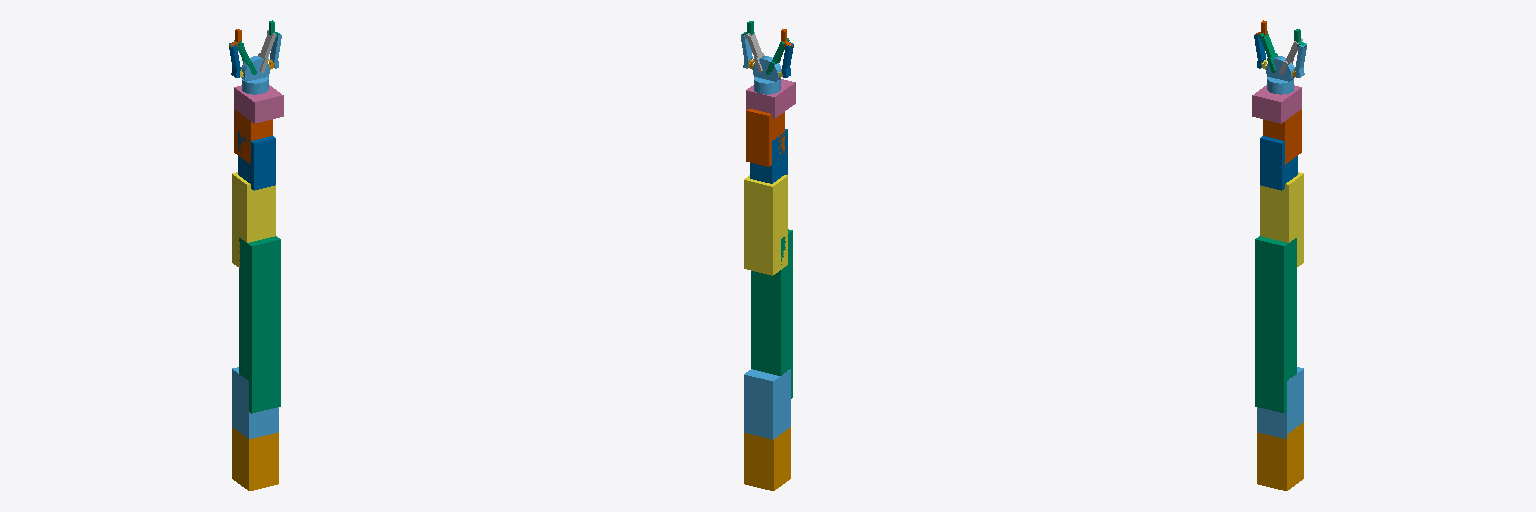
robot.urdf — [local-path]/webots_ws/src/webots_ros2_spot/protos/6dof/urdf/GEN:
<?xml version="1.0"?>
<robot name="[local-path]/webots_ws/src/webots_ros2_spot/protos/6dof/urdf/GEN3-6DOF_VISION.urdf" xmlns:xacro="http://ros.org/wiki/xacro">
  <link name="base_link">
    <visual>
      <origin xyz="0.000194 0.000078 0.085425" rpy="0 0 0"/>
      <geometry>
        <box size="0.092492 0.092157 0.17085"/>
      </geometry>
    </visual>
    <collision>
      <origin xyz="0.000194 0.000078 0.085425" rpy="0 0 0"/>
      <geometry>
        <box size="0.092492 0.092157 0.17085"/>
      </geometry>
    </collision>
  </link>
  <joint name="joint_1" type="continuous">
    <parent link="base_link"/>
    <child link="Shoulder_Link"/>
    <axis xyz="0 -0.000014 1"/>
    <limit effort="39" velocity="0.8727"/>
    <origin xyz="0 0 0.15643" rpy="3.141585 0 0"/>
  </joint>
  <link name="Shoulder_Link">
    <visual>
      <origin xyz="0 -0.001297 -0.087188" rpy="0 0 0"/>
      <geometry>
        <box size="0.092717 0.094708 0.174375"/>
      </geometry>
    </visual>
    <collision>
      <origin xyz="0 -0.001297 -0.087188" rpy="0 0 0"/>
      <geometry>
        <box size="0.092717 0.094708 0.174375"/>
      </geometry>
    </collision>
  </link>
  <joint name="joint_2" type="revolute">
    <parent link="Shoulder_Link"/>
    <child link="Bicep_Link"/>
    <axis xyz="0 0 1"/>
    <limit effort="39" lower="-2.41" upper="2.41" velocity="0.8727"/>
    <origin xyz="0 0.005375 -0.12838" rpy="1.5708 0 0"/>
  </joint>
  <link name="Bicep_Link">
    <visual>
      <origin xyz="0 -0.20501 -0.019205" rpy="0 0 0"/>
      <geometry>
        <box size="0.092 0.50202 0.06726"/>
      </geometry>
    </visual>
    <collision>
      <origin xyz="0 -0.20501 -0.019205" rpy="0 0 0"/>
      <geometry>
        <box size="0.092 0.50202 0.06726"/>
      </geometry>
    </collision>
  </link>
  <joint name="joint_3" type="revolute">
    <parent link="Bicep_Link"/>
    <child link="ForeArm_Link"/>
    <axis xyz="0 0.000014 1"/>
    <limit effort="39" lower="-2.66" upper="2.66" velocity="0.8727"/>
    <origin xyz="0 -0.41 0" rpy="-3.141585 0 0"/>
  </joint>
  <link name="ForeArm_Link">
    <visual>
      <origin xyz="0 0.08745 -0.013648" rpy="0 0 0"/>
      <geometry>
        <box size="0.092 0.2669 0.084586"/>
      </geometry>
    </visual>
    <collision>
      <origin xyz="0 0.08745 -0.013648" rpy="0 0 0"/>
      <geometry>
        <box size="0.092 0.2669 0.084586"/>
      </geometry>
    </collision>
  </link>
  <joint name="joint_4" type="continuous">
    <parent link="ForeArm_Link"/>
    <child link="SphericalWrist1_Link"/>
    <axis xyz="0 0 1"/>
    <limit effort="9" velocity="0.8727"/>
    <origin xyz="0 0.20843 -0.006375" rpy="1.5708 0 0"/>
  </joint>
  <link name="SphericalWrist1_Link">
    <visual>
      <origin xyz="-0.000001 0.009023 -0.070502" rpy="0 0 0"/>
      <geometry>
        <box size="0.069998 0.088046 0.141004"/>
      </geometry>
    </visual>
    <collision>
      <origin xyz="-0.000001 0.009023 -0.070502" rpy="0 0 0"/>
      <geometry>
        <box size="0.069998 0.088046 0.141004"/>
      </geometry>
    </collision>
  </link>
  <joint name="joint_5" type="revolute">
    <parent link="SphericalWrist1_Link"/>
    <child link="SphericalWrist2_Link"/>
    <axis xyz="0 0 1"/>
    <limit effort="9" lower="-2.23" upper="2.23" velocity="0.8727"/>
    <origin xyz="0 -0.000175 -0.10593" rpy="-1.5708 0 0"/>
  </joint>
  <link name="SphericalWrist2_Link">
    <visual>
      <origin xyz="0 0.041661 -0.009251" rpy="0 0 0"/>
      <geometry>
        <box size="0.07 0.153478 0.088152"/>
      </geometry>
    </visual>
    <collision>
      <origin xyz="0 0.041661 -0.009251" rpy="0 0 0"/>
      <geometry>
        <box size="0.07 0.153478 0.088152"/>
      </geometry>
    </collision>
  </link>
  <joint name="joint_6" type="continuous">
    <parent link="SphericalWrist2_Link"/>
    <child link="Bracelet_Link"/>
    <axis xyz="0 0 1"/>
    <limit effort="9" velocity="0.8727"/>
    <origin xyz="0 0.10593 -0.000175" rpy="1.5708 0 0"/>
  </joint>
  <link name="Bracelet_Link">
    <visual>
      <origin xyz="0 0.018585 -0.032212" rpy="0 0 0"/>
      <geometry>
        <box size="0.091 0.11217 0.064425"/>
      </geometry>
    </visual>
    <collision>
      <origin xyz="0 0.018585 -0.032212" rpy="0 0 0"/>
      <geometry>
        <box size="0.091 0.11217 0.064425"/>
      </geometry>
    </collision>
  </link>
  <link name="kinova_depth">
  </link>
  <joint name="Bracelet_Link_kinova_depth_joint" type="fixed">
    <parent link="Bracelet_Link"/>
    <child link="kinova_depth"/>
    <origin xyz="0 0.06 -0.06" rpy="2.356193 1.570792 -2.356193"/>
  </joint>
  <link name="kinova_color">
  </link>
  <joint name="Bracelet_Link_kinova_color_joint" type="fixed">
    <parent link="Bracelet_Link"/>
    <child link="kinova_color"/>
    <origin xyz="0 0.06 -0.06" rpy="0.785397 1.570792 -3.926989"/>
  </joint>
  <link name="ROBOTIQ 2F-140 Gripper">
    <visual>
      <origin xyz="0 0 0.018" rpy="0 0 0"/>
      <geometry>
        <cylinder radius="0.0375" length="0.036"/>
      </geometry>
    </visual>
    <collision>
      <origin xyz="0 0 0.018" rpy="0 0 0"/>
      <geometry>
        <cylinder radius="0.0375" length="0.036"/>
      </geometry>
    </collision>
    <visual>
      <origin xyz="0 0 0.055" rpy="3.141593 1.570793 3.141593"/>
      <geometry>
        <cylinder radius="0.04" length="0.023"/>
      </geometry>
    </visual>
    <collision>
      <origin xyz="0 0 0.055" rpy="3.141593 1.570793 3.141593"/>
      <geometry>
        <cylinder radius="0.04" length="0.023"/>
      </geometry>
    </collision>
  </link>
  <joint name="Bracelet_Link_ROBOTIQ 2F-140 Gripper_joint" type="fixed">
    <parent link="Bracelet_Link"/>
    <child link="ROBOTIQ 2F-140 Gripper"/>
    <origin xyz="0 0 -0.061525" rpy="-3.14159 0 -1.570794"/>
  </joint>
  <joint name="hingejoint" type="continuous">
    <parent link="ROBOTIQ 2F-140 Gripper"/>
    <child link="right inner knuckle"/>
    <axis xyz="1 0 0"/>
    <origin xyz="0 0.0127 0.06142" rpy="2.000653 0 3.141592"/>
  </joint>
  <link name="right inner knuckle">
    <visual>
      <origin xyz="0 0 0" rpy="3.141593 1.570793 3.141593"/>
      <geometry>
        <cylinder radius="0.0059" length="0.0394"/>
      </geometry>
    </visual>
    <collision>
      <origin xyz="0 0 0" rpy="3.141593 1.570793 3.141593"/>
      <geometry>
        <cylinder radius="0.0059" length="0.0394"/>
      </geometry>
    </collision>
    <visual>
      <origin xyz="-0.0158 0.018 -0.0003" rpy="-0.02 0 0"/>
      <geometry>
        <box size="0.007 0.038 0.0121"/>
      </geometry>
    </visual>
    <collision>
      <origin xyz="-0.0158 0.018 -0.0003" rpy="-0.02 0 0"/>
      <geometry>
        <box size="0.007 0.038 0.0121"/>
      </geometry>
    </collision>
    <visual>
      <origin xyz="0.0158 0.018 -0.0003" rpy="-0.02 0 0"/>
      <geometry>
        <box size="0.007 0.038 0.0121"/>
      </geometry>
    </visual>
    <collision>
      <origin xyz="0.0158 0.018 -0.0003" rpy="-0.02 0 0"/>
      <geometry>
        <box size="0.007 0.038 0.0121"/>
      </geometry>
    </collision>
    <visual>
      <origin xyz="0 0.0677 -0.0013" rpy="-0.02 0 0"/>
      <geometry>
        <box size="0.0246 0.076 0.0121"/>
      </geometry>
    </visual>
    <collision>
      <origin xyz="0 0.0677 -0.0013" rpy="-0.02 0 0"/>
      <geometry>
        <box size="0.0246 0.076 0.0121"/>
      </geometry>
    </collision>
    <visual>
      <origin xyz="0.0035 0.101 -0.0023" rpy="3.141593 1.570793 3.141593"/>
      <geometry>
        <cylinder radius="0.0058" length="0.032"/>
      </geometry>
    </visual>
    <collision>
      <origin xyz="0.0035 0.101 -0.0023" rpy="3.141593 1.570793 3.141593"/>
      <geometry>
        <cylinder radius="0.0058" length="0.032"/>
      </geometry>
    </collision>
  </link>
  <joint name="right_finger_joint" type="revolute">
    <parent link="ROBOTIQ 2F-140 Gripper"/>
    <child link="right outer knuckle"/>
    <axis xyz="-1 0 0"/>
    <limit effort="0.12" lower="0" upper="0.7" velocity="2"/>
    <origin xyz="0 0.030601 0.054905" rpy="2.000628 0 -3.141592"/>
  </joint>
  <link name="right outer knuckle">
    <visual>
      <origin xyz="0 0.002 0.004" rpy="0.9 0 0"/>
      <geometry>
        <box size="0.009 0.063 0.012"/>
      </geometry>
    </visual>
    <collision>
      <origin xyz="0 0.002 0.004" rpy="0.9 0 0"/>
      <geometry>
        <box size="0.009 0.063 0.012"/>
      </geometry>
    </collision>
    <visual>
      <origin xyz="0 0.0209 0.019" rpy="0.95 0 0"/>
      <geometry>
        <box size="0.009 0.02 0.02"/>
      </geometry>
    </visual>
    <collision>
      <origin xyz="0 0.0209 0.019" rpy="0.95 0 0"/>
      <geometry>
        <box size="0.009 0.02 0.02"/>
      </geometry>
    </collision>
    <visual>
      <origin xyz="0 0 0" rpy="3.141593 1.570793 3.141593"/>
      <geometry>
        <cylinder radius="0.004" length="0.017"/>
      </geometry>
    </visual>
    <collision>
      <origin xyz="0 0 0" rpy="3.141593 1.570793 3.141593"/>
      <geometry>
        <cylinder radius="0.004" length="0.017"/>
      </geometry>
    </collision>
    <visual>
      <origin xyz="0 0.0218 0.0136" rpy="3.141593 1.570793 3.141593"/>
      <geometry>
        <cylinder radius="0.003" length="0.024"/>
      </geometry>
    </visual>
    <collision>
      <origin xyz="0 0.0218 0.0136" rpy="3.141593 1.570793 3.141593"/>
      <geometry>
        <cylinder radius="0.003" length="0.024"/>
      </geometry>
    </collision>
  </link>
  <link name="right outer finger">
    <visual>
      <origin xyz="0 0.0511 -0.02" rpy="-0.2618 0 0"/>
      <geometry>
        <box size="0.025 0.074 0.012"/>
      </geometry>
    </visual>
    <collision>
      <origin xyz="0 0.0511 -0.02" rpy="-0.2618 0 0"/>
      <geometry>
        <box size="0.025 0.074 0.012"/>
      </geometry>
    </collision>
    <visual>
      <origin xyz="0 0.006 -0.004" rpy="2.56 0 0"/>
      <geometry>
        <box size="0.025 0.026 0.012"/>
      </geometry>
    </visual>
    <collision>
      <origin xyz="0 0.006 -0.004" rpy="2.56 0 0"/>
      <geometry>
        <box size="0.025 0.026 0.012"/>
      </geometry>
    </collision>
  </link>
  <joint name="right outer knuckle_right outer finger_joint" type="fixed">
    <parent link="right outer knuckle"/>
    <child link="right outer finger"/>
    <origin xyz="0 0.01822 0.026002" rpy="0 0 0"/>
  </joint>
  <joint name="hingejoint_0" type="continuous">
    <parent link="right outer finger"/>
    <child link="right_inner_finger"/>
    <axis xyz="1 0 0"/>
    <origin xyz="0 0.081755 -0.0282" rpy="-0.426125 0 0"/>
  </joint>
  <link name="right_inner_finger">
    <visual>
      <origin xyz="0 0.021013 -0.018015" rpy="0 0 0"/>
      <geometry>
        <box size="0.015 0.047 0.012"/>
      </geometry>
    </visual>
    <collision>
      <origin xyz="0 0.021013 -0.018015" rpy="0 0 0"/>
      <geometry>
        <box size="0.015 0.047 0.012"/>
      </geometry>
    </collision>
    <visual>
      <origin xyz="0 0.003013 -0.008015" rpy="-1.2 0 0"/>
      <geometry>
        <box size="0.015 0.029 0.012"/>
      </geometry>
    </visual>
    <collision>
      <origin xyz="0 0.003013 -0.008015" rpy="-1.2 0 0"/>
      <geometry>
        <box size="0.015 0.029 0.012"/>
      </geometry>
    </collision>
  </link>
  <link name="right inner finger pad">
  </link>
  <joint name="right_inner_finger_right inner finger pad_joint" type="fixed">
    <parent link="right_inner_finger"/>
    <child link="right inner finger pad"/>
    <origin xyz="0 0.045768 -0.027235" rpy="-0.01 0 0"/>
  </joint>
  <joint name="hingejoint_1" type="continuous">
    <parent link="ROBOTIQ 2F-140 Gripper"/>
    <child link="left inner knuckle"/>
    <axis xyz="1 0 0"/>
    <origin xyz="0 -0.0127 0.06142" rpy="2.000639 0 0"/>
  </joint>
  <link name="left inner knuckle">
    <visual>
      <origin xyz="0 0 0" rpy="3.141593 1.570793 3.141593"/>
      <geometry>
        <cylinder radius="0.0059" length="0.0394"/>
      </geometry>
    </visual>
    <collision>
      <origin xyz="0 0 0" rpy="3.141593 1.570793 3.141593"/>
      <geometry>
        <cylinder radius="0.0059" length="0.0394"/>
      </geometry>
    </collision>
    <visual>
      <origin xyz="-0.0158 0.018 -0.0003" rpy="-0.02 0 0"/>
      <geometry>
        <box size="0.007 0.038 0.0121"/>
      </geometry>
    </visual>
    <collision>
      <origin xyz="-0.0158 0.018 -0.0003" rpy="-0.02 0 0"/>
      <geometry>
        <box size="0.007 0.038 0.0121"/>
      </geometry>
    </collision>
    <visual>
      <origin xyz="0.0158 0.018 -0.0003" rpy="-0.02 0 0"/>
      <geometry>
        <box size="0.007 0.038 0.0121"/>
      </geometry>
    </visual>
    <collision>
      <origin xyz="0.0158 0.018 -0.0003" rpy="-0.02 0 0"/>
      <geometry>
        <box size="0.007 0.038 0.0121"/>
      </geometry>
    </collision>
    <visual>
      <origin xyz="0 0.0677 -0.0013" rpy="-0.02 0 0"/>
      <geometry>
        <box size="0.0246 0.076 0.0121"/>
      </geometry>
    </visual>
    <collision>
      <origin xyz="0 0.0677 -0.0013" rpy="-0.02 0 0"/>
      <geometry>
        <box size="0.0246 0.076 0.0121"/>
      </geometry>
    </collision>
    <visual>
      <origin xyz="0.0035 0.101 -0.0023" rpy="3.141593 1.570793 3.141593"/>
      <geometry>
        <cylinder radius="0.0058" length="0.032"/>
      </geometry>
    </visual>
    <collision>
      <origin xyz="0.0035 0.101 -0.0023" rpy="3.141593 1.570793 3.141593"/>
      <geometry>
        <cylinder radius="0.0058" length="0.032"/>
      </geometry>
    </collision>
  </link>
  <joint name="left_finger_joint" type="revolute">
    <parent link="ROBOTIQ 2F-140 Gripper"/>
    <child link="left outer knuckle"/>
    <axis xyz="-1 0 0"/>
    <limit effort="0.12" lower="0" upper="0.7" velocity="2"/>
    <origin xyz="0 -0.030601 0.054905" rpy="2.000628 0 0"/>
  </joint>
  <link name="left outer knuckle">
    <visual>
      <origin xyz="0 0.002 0.004" rpy="0.9 0 0"/>
      <geometry>
        <box size="0.009 0.063 0.012"/>
      </geometry>
    </visual>
    <collision>
      <origin xyz="0 0.002 0.004" rpy="0.9 0 0"/>
      <geometry>
        <box size="0.009 0.063 0.012"/>
      </geometry>
    </collision>
    <visual>
      <origin xyz="0 0.0209 0.019" rpy="0.95 0 0"/>
      <geometry>
        <box size="0.009 0.02 0.02"/>
      </geometry>
    </visual>
    <collision>
      <origin xyz="0 0.0209 0.019" rpy="0.95 0 0"/>
      <geometry>
        <box size="0.009 0.02 0.02"/>
      </geometry>
    </collision>
    <visual>
      <origin xyz="0 0 0" rpy="3.141593 1.570793 3.141593"/>
      <geometry>
        <cylinder radius="0.004" length="0.017"/>
      </geometry>
    </visual>
    <collision>
      <origin xyz="0 0 0" rpy="3.141593 1.570793 3.141593"/>
      <geometry>
        <cylinder radius="0.004" length="0.017"/>
      </geometry>
    </collision>
    <visual>
      <origin xyz="0 0.0218 0.0136" rpy="3.141593 1.570793 3.141593"/>
      <geometry>
        <cylinder radius="0.003" length="0.024"/>
      </geometry>
    </visual>
    <collision>
      <origin xyz="0 0.0218 0.0136" rpy="3.141593 1.570793 3.141593"/>
      <geometry>
        <cylinder radius="0.003" length="0.024"/>
      </geometry>
    </collision>
  </link>
  <link name="left outer finger">
    <visual>
      <origin xyz="0 0.0511 -0.02" rpy="-0.2618 0 0"/>
      <geometry>
        <box size="0.025 0.074 0.012"/>
      </geometry>
    </visual>
    <collision>
      <origin xyz="0 0.0511 -0.02" rpy="-0.2618 0 0"/>
      <geometry>
        <box size="0.025 0.074 0.012"/>
      </geometry>
    </collision>
    <visual>
      <origin xyz="0 0.006 -0.004" rpy="2.56 0 0"/>
      <geometry>
        <box size="0.025 0.026 0.012"/>
      </geometry>
    </visual>
    <collision>
      <origin xyz="0 0.006 -0.004" rpy="2.56 0 0"/>
      <geometry>
        <box size="0.025 0.026 0.012"/>
      </geometry>
    </collision>
  </link>
  <joint name="left outer knuckle_left outer finger_joint" type="fixed">
    <parent link="left outer knuckle"/>
    <child link="left outer finger"/>
    <origin xyz="0 0.01822 0.026002" rpy="0 0 0"/>
  </joint>
  <joint name="hingejoint_2" type="continuous">
    <parent link="left outer finger"/>
    <child link="left_inner_finger"/>
    <axis xyz="1 0 0"/>
    <origin xyz="0 0.081755 -0.02822" rpy="-0.425812 0 0"/>
  </joint>
  <link name="left_inner_finger">
    <visual>
      <origin xyz="0 0.021 -0.018" rpy="0 0 0"/>
      <geometry>
        <box size="0.015 0.047 0.012"/>
      </geometry>
    </visual>
    <collision>
      <origin xyz="0 0.021 -0.018" rpy="0 0 0"/>
      <geometry>
        <box size="0.015 0.047 0.012"/>
      </geometry>
    </collision>
    <visual>
      <origin xyz="0 0.003 -0.008" rpy="-1.2 0 0"/>
      <geometry>
        <box size="0.015 0.029 0.012"/>
      </geometry>
    </visual>
    <collision>
      <origin xyz="0 0.003 -0.008" rpy="-1.2 0 0"/>
      <geometry>
        <box size="0.015 0.029 0.012"/>
      </geometry>
    </collision>
  </link>
  <link name="left inner finger pad">
  </link>
  <joint name="left_inner_finger_left inner finger pad_joint" type="fixed">
    <parent link="left_inner_finger"/>
    <child link="left inner finger pad"/>
    <origin xyz="0 0.045755 -0.02722" rpy="-0.01 0 0"/>
  </joint>
</robot>

--- Render facts (derived) ---
The picture shows the robot from 3 angles, left to right: view 1: azimuth 30°, elevation 25°; view 2: azimuth 150°, elevation 25°; view 3: azimuth 330°, elevation 25°; orthographic projection.
Robot: [local-path]/webots_ws/src/webots_ros2_spot/protos/6dof/urdf/GEN — 20 links, 19 joints (5 revolute, 7 continuous, 7 fixed); root link base_link; default pose: every joint at zero.
Visible links, largest first — view 1: Bicep_Link, ForeArm_Link, base_link, Shoulder_Link, SphericalWrist1_Link, Bracelet_Link, SphericalWrist2_Link, ROBOTIQ 2F-140 Gripper; view 2: Bicep_Link, ForeArm_Link, Shoulder_Link, base_link, SphericalWrist2_Link, Bracelet_Link, SphericalWrist1_Link, ROBOTIQ 2F-140 Gripper; view 3: Bicep_Link, ForeArm_Link, base_link, Shoulder_Link, SphericalWrist1_Link, Bracelet_Link, SphericalWrist2_Link, ROBOTIQ 2F-140 Gripper.
Link boxes in pixels (box(x1,y1,x2,y2)): Bicep_Link: box(239, 236, 280, 413); ForeArm_Link: box(232, 172, 275, 267); base_link: box(232, 427, 278, 490); Shoulder_Link: box(232, 367, 278, 438); SphericalWrist1_Link: box(238, 132, 275, 190); Bracelet_Link: box(234, 85, 283, 123); SphericalWrist2_Link: box(234, 109, 272, 164); ROBOTIQ 2F-140 Gripper: box(241, 56, 269, 94); Bicep_Link: box(751, 229, 792, 398); ForeArm_Link: box(744, 175, 787, 275); Shoulder_Link: box(744, 369, 790, 439); base_link: box(744, 427, 790, 490); SphericalWrist2_Link: box(746, 109, 784, 166); Bracelet_Link: box(746, 79, 795, 118); SphericalWrist1_Link: box(750, 129, 787, 183); ROBOTIQ 2F-140 Gripper: box(752, 56, 780, 94); Bicep_Link: box(1255, 236, 1296, 413); ForeArm_Link: box(1260, 172, 1303, 266); base_link: box(1257, 422, 1303, 490); Shoulder_Link: box(1257, 367, 1303, 438); SphericalWrist1_Link: box(1260, 136, 1297, 190); Bracelet_Link: box(1252, 85, 1301, 123); SphericalWrist2_Link: box(1263, 109, 1301, 164); ROBOTIQ 2F-140 Gripper: box(1266, 56, 1294, 94).
Bounding box of the posed robot: 0.1559 × 0.1278 × 1.37 m (x, y, z).
Geometry: primitives only (box / cylinder / sphere), no mesh files.
